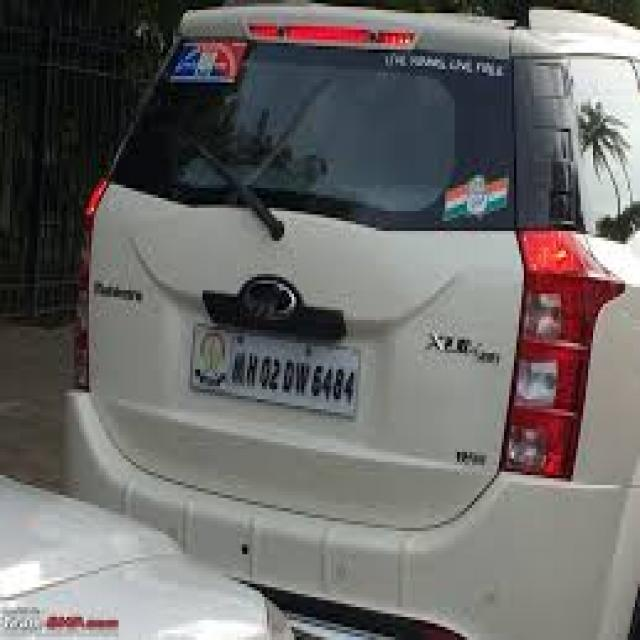Number-Plate: (182, 325, 363, 414)
